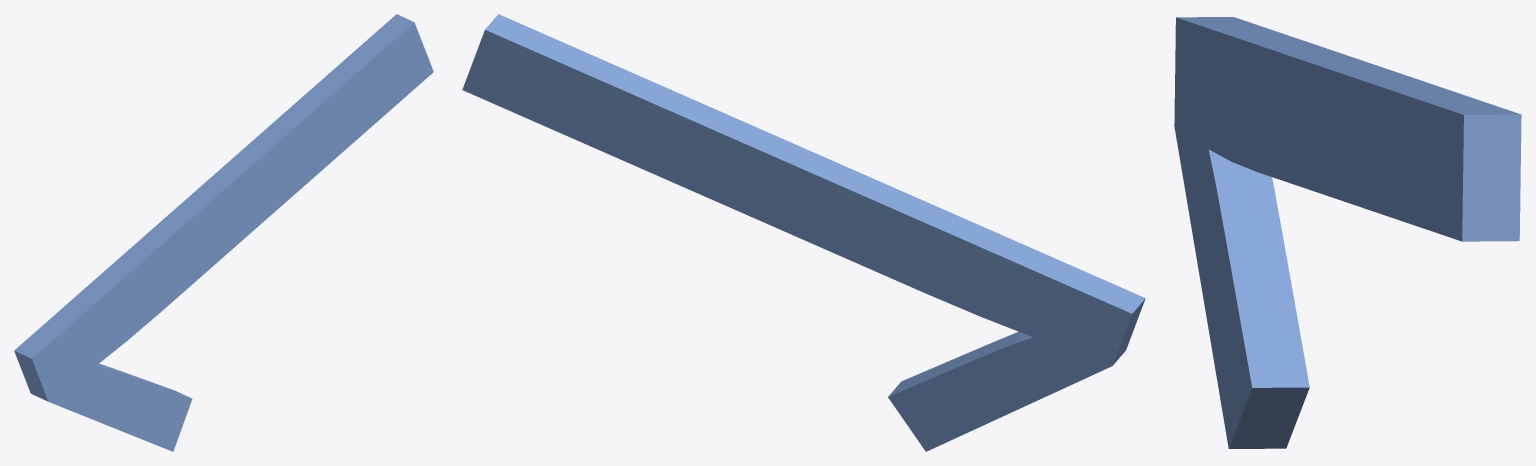
Rendered from New_Number_1.gltf.
The picture shows the model from 3 angles, left to right: view 1: azimuth 30°, elevation 25°; view 2: azimuth 150°, elevation 25°; view 3: azimuth 270°, elevation 25°; orthographic projection. The views are drawn at different scales.
Parts seen in each view (by area): view 1: Part 127; view 2: Part 127; view 3: Part 127.
Boxes of the visible parts, x1,y1,x2,y2 form: Part 127: (14,14,433,451); Part 127: (462,14,1145,451); Part 127: (1174,17,1521,448).
Bounding box in the file's own units: 0.00484 × 0.00305 × 0.00152.
